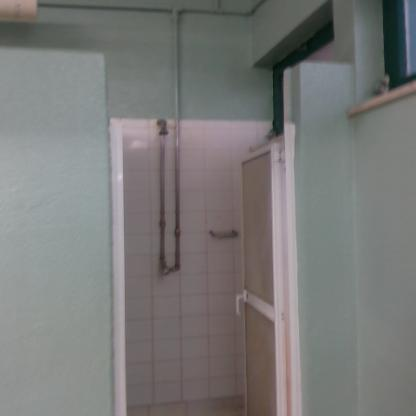open: (93, 99, 344, 416)
